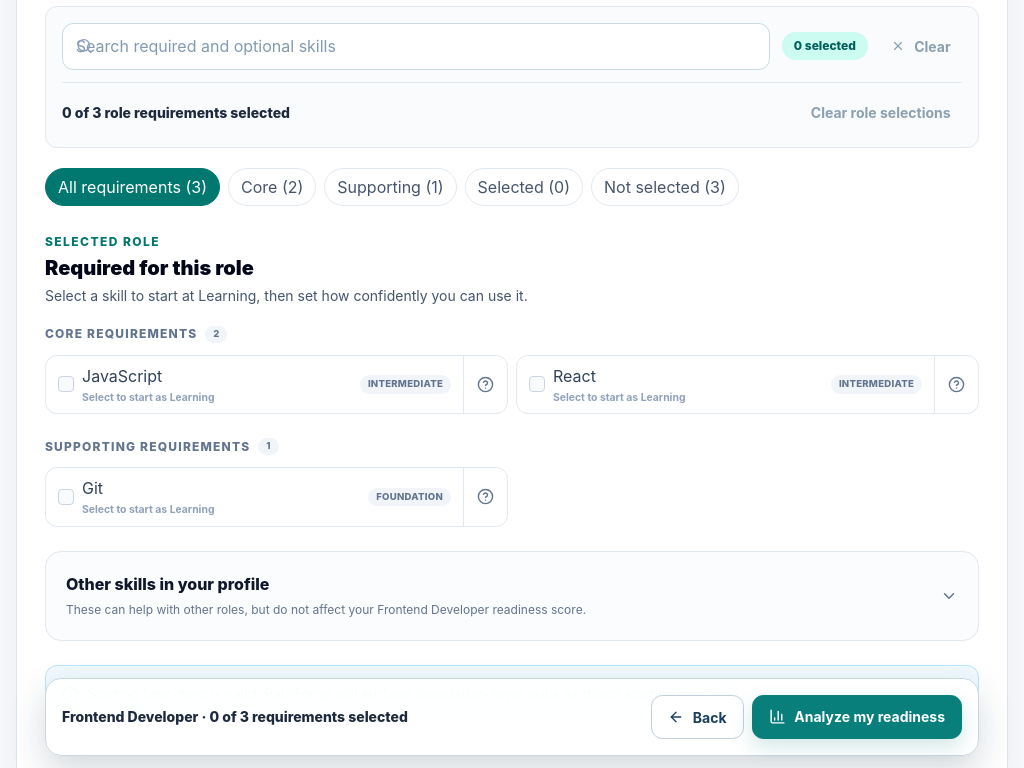
Test: Planner role navigation › shows only graph-connected Frontend requirements and updates them for AI Engineer
This screenshot has width=1024, height=768.
(page scrolled)
Expected: the element named "Planner analysis actions" shows "Frontend Developer · 0 of 3 requirements selected", 45,678 -> 979,756
Expected: the element "Required for this role" is shown, 45,234 -> 979,527
Click the checkbox labelled "JavaScript" at coordinates (122, 376), box 46,356 -> 463,413
(page scrolled)
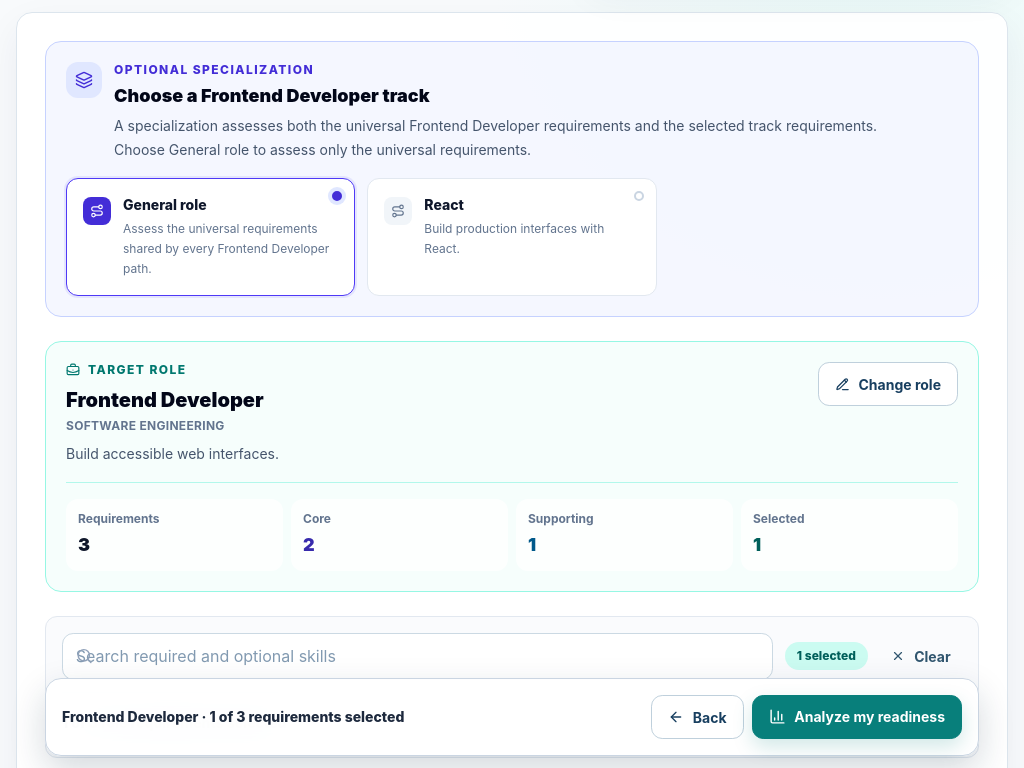
Click the button "Change role" at coordinates (888, 384), box 818,362 -> 958,406
(page scrolled)
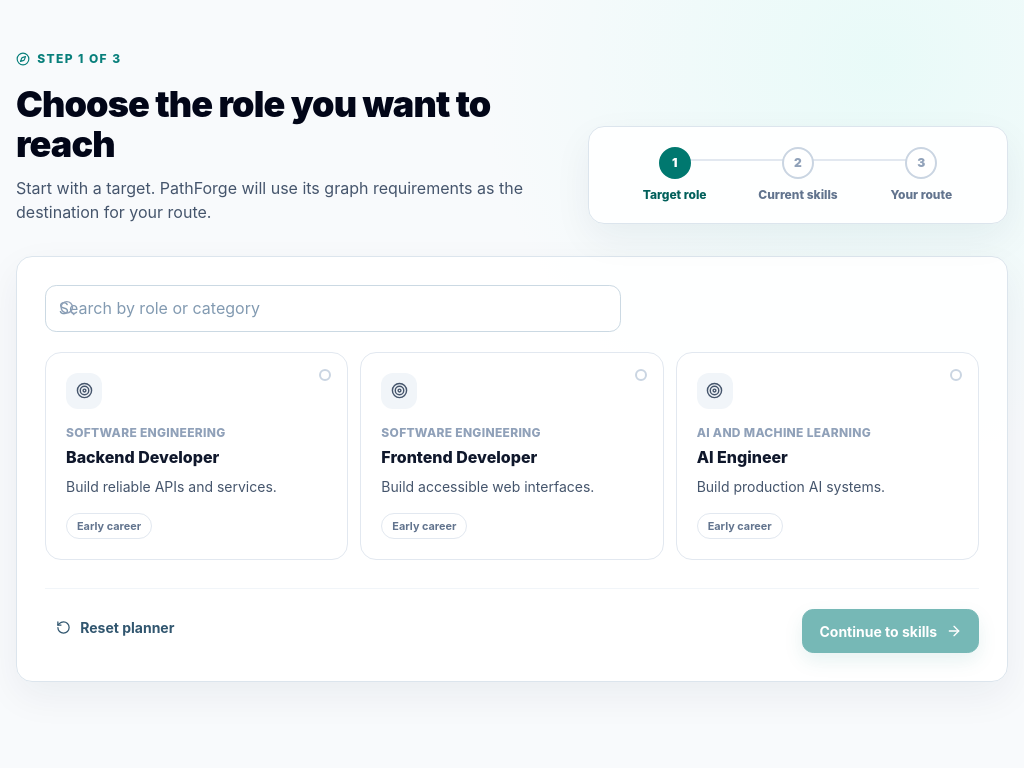
Click the radio button labelled "AI Engineer" at coordinates (715, 391), box 676,352 -> 979,560
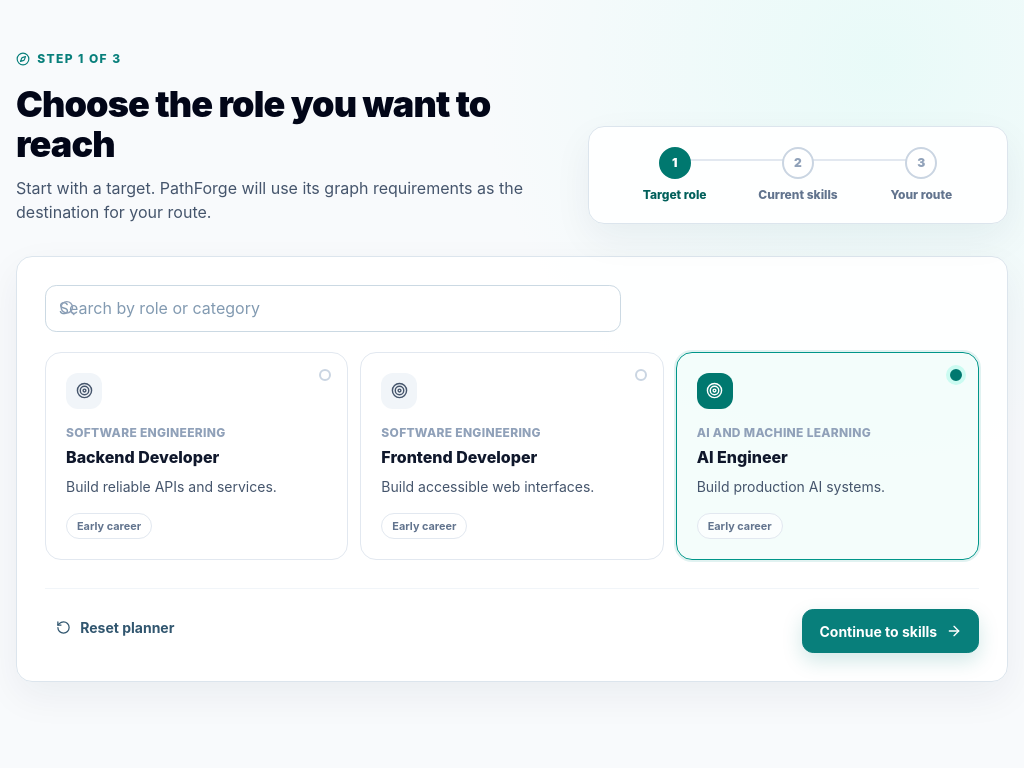
Click the button "Continue to skills" at coordinates (891, 631), box 802,609 -> 979,653
(page scrolled)
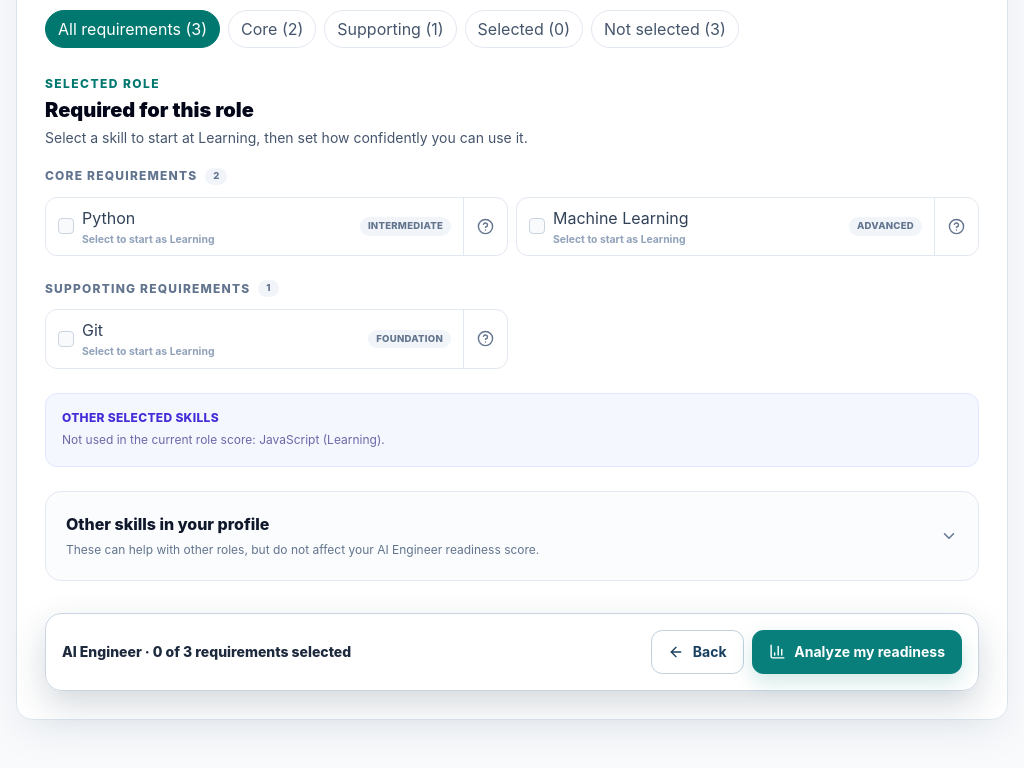
Now the checkbox labelled "Machine Learning" is shown, box 517,198 -> 934,255
Now the checkbox labelled "Python" is shown, box 46,198 -> 463,255
Now the text "Not used in the current role score: JavaScript (Learning)." is shown, box 62,432 -> 385,447
